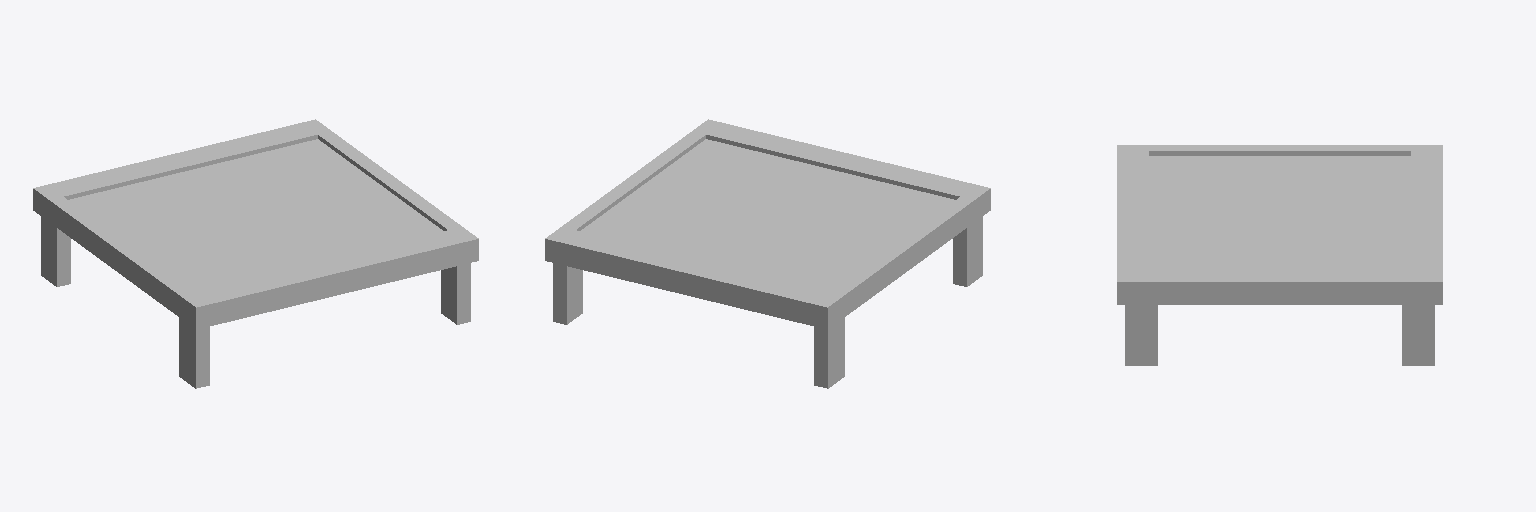
The model's file is table.obj.
3 renders of one model, left to right at view 1: azimuth 30°, elevation 25°; view 2: azimuth 150°, elevation 25°; view 3: azimuth 270°, elevation 25°, orthographic.
Visible parts, largest first — view 1: Base_Cube.007; view 2: Base_Cube.007; view 3: Base_Cube.007.
Part boxes in pixels (bbox=[...]): Base_Cube.007: bbox=[33, 119, 478, 388]; Base_Cube.007: bbox=[545, 119, 990, 388]; Base_Cube.007: bbox=[1117, 145, 1442, 365].
Bounding box in the file's own units: 8 × 2.3 × 8.